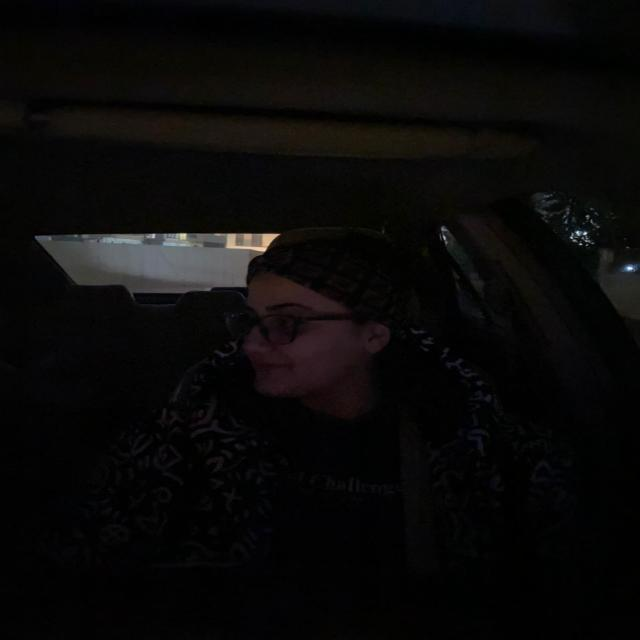LeftRight: (223, 232, 423, 405)
